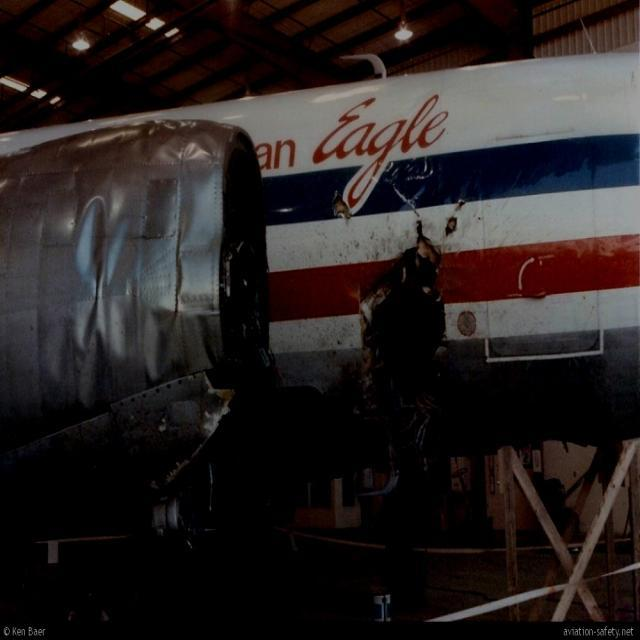dent: (76, 198, 179, 388)
